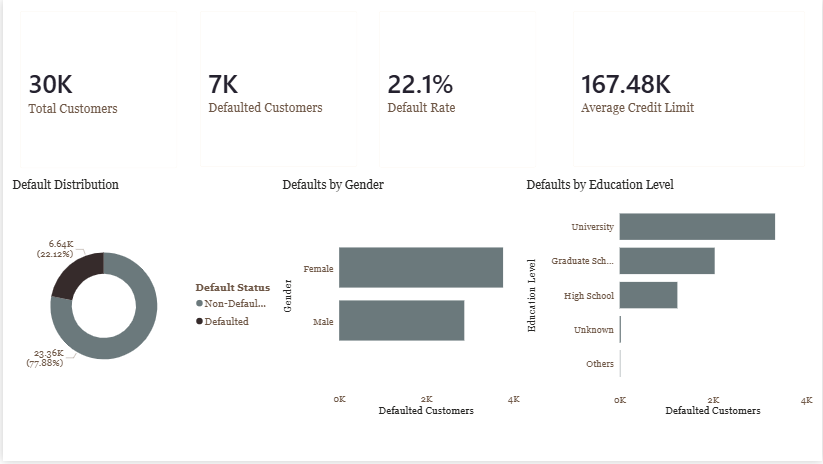

Layout of this report page (visuals, bound fields, positions):
{"tool":"powerbi","page":{"name":"Summary","canvas":[1280,720],"ordinal":0},"visuals":[{"type":"cardVisual","fields":{"Data":["UCI_Credit_Card.Total Customers"]},"box":[10,0,280,280],"z":0},{"type":"cardVisual","fields":{"Data":["UCI_Credit_Card.Defaulted Customers"]},"box":[290.2,0,280.5,278.8],"z":1000},{"type":"cardVisual","fields":{"Data":["UCI_Credit_Card.Default Rate"]},"box":[570.9,0,280.6,279.2],"z":2000},{"type":"donutChart","title":"Default Distribution","fields":{"Category":["UCI_Credit_Card.Default Status"],"Y":["CountNonNull(UCI_Credit_Card.ID)"]},"box":[10.1,277.9,420.5,378.7],"z":3000},{"type":"barChart","title":"Defaults by Gender","fields":{"Y":["UCI_Credit_Card.Defaulted Customers"],"Category":["UCI_Credit_Card.Gender"]},"box":[430.9,277.8,381.3,377],"z":4000},{"type":"barChart","title":"Defaults by Education Level","fields":{"Y":["UCI_Credit_Card.Defaulted Customers"],"Category":["UCI_Credit_Card.Education Level"]},"box":[812.1,277.8,457.8,378.4],"z":5000},{"type":"cardVisual","fields":{"Data":["UCI_Credit_Card.Average Credit Limit"]},"box":[873,0,397,278],"z":6000}]}

Visuals, with their boxes in screenshot pixels (x1, y1, x2, y2), scaled from the page's 1280x720 canvas onto the 823x464 screenshot:
cardVisual - UCI_Credit_Card.Total Customers: [left=6, top=0, right=186, bottom=180]
cardVisual - UCI_Credit_Card.Defaulted Customers: [left=187, top=0, right=367, bottom=180]
cardVisual - UCI_Credit_Card.Default Rate: [left=367, top=0, right=547, bottom=180]
"Default Distribution" donutChart: [left=6, top=179, right=277, bottom=423]
"Defaults by Gender" barChart: [left=277, top=179, right=522, bottom=422]
"Defaults by Education Level" barChart: [left=522, top=179, right=817, bottom=423]
cardVisual - UCI_Credit_Card.Average Credit Limit: [left=561, top=0, right=817, bottom=179]
